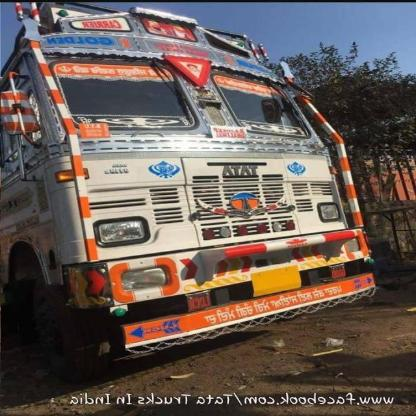truck: (5, 8, 383, 362)
